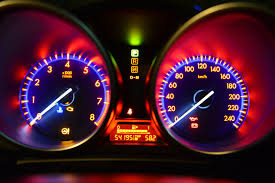Digital_Meter: (109, 123, 160, 146)
